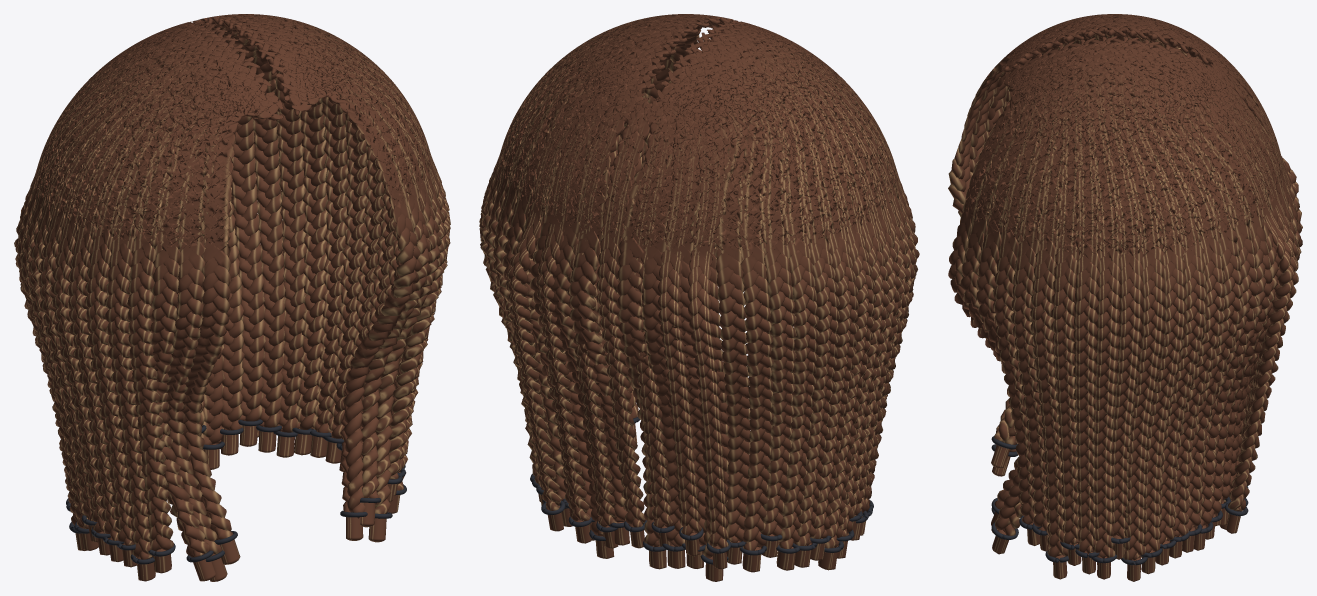
The model's file is Highlights-f68f257ad765252-hair.glb.
3 renders of one model, left to right at view 1: azimuth 30°, elevation 25°; view 2: azimuth 150°, elevation 25°; view 3: azimuth 270°, elevation 25°, orthographic. The views are drawn at different scales.
Visible parts, largest first — view 1: 226 hair / Hair / chestnut226.001, 226 hair / Hair / ties226.001; view 2: 226 hair / Hair / chestnut226.001, 226 hair / Hair / ties226.001; view 3: 226 hair / Hair / chestnut226.001, 226 hair / Hair / ties226.001.
Boxes of the visible parts, left/top/right/bottom form: 226 hair / Hair / chestnut226.001: left=14, top=14, right=450, bottom=581; 226 hair / Hair / ties226.001: left=66, top=419, right=406, bottom=564; 226 hair / Hair / chestnut226.001: left=479, top=14, right=919, bottom=581; 226 hair / Hair / ties226.001: left=530, top=416, right=873, bottom=564; 226 hair / Hair / chestnut226.001: left=948, top=14, right=1302, bottom=581; 226 hair / Hair / ties226.001: left=991, top=436, right=1248, bottom=565.
Bounding box in the file's own units: 1.07 × 1.29 × 0.8592.
Materials: 2 (1 with a texture image).
